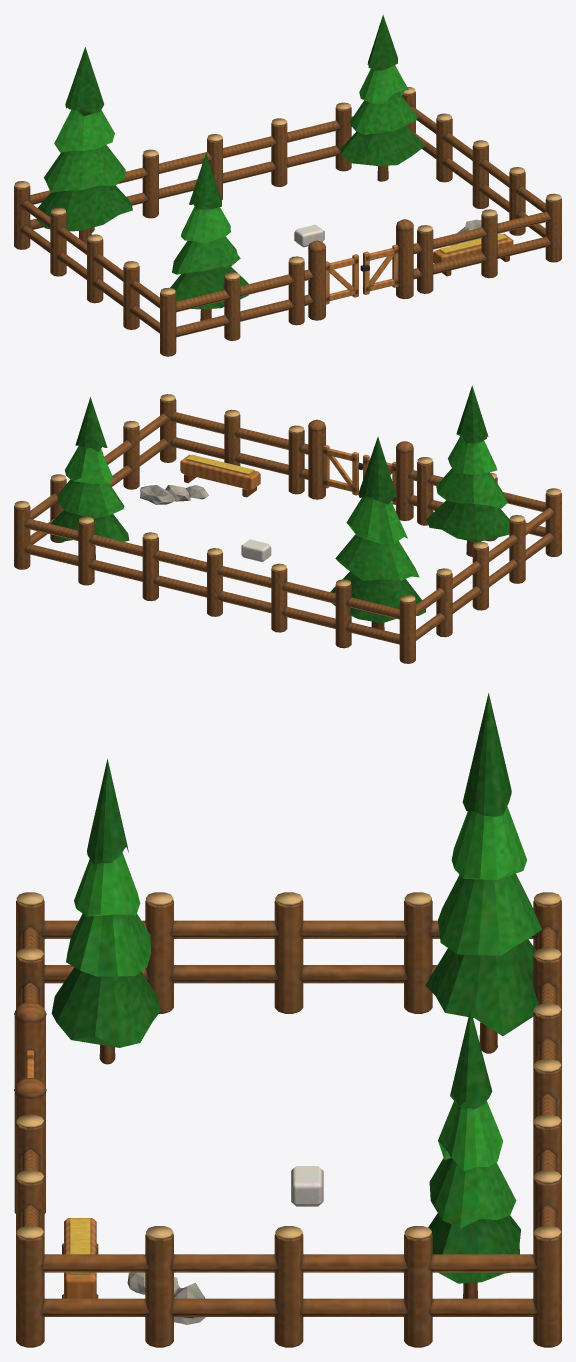
File: moose_woods.glb
The picture shows the model from 3 angles, top to bottom: view 1: azimuth 30°, elevation 25°; view 2: azimuth 150°, elevation 25°; view 3: azimuth 270°, elevation 25°; orthographic projection. The views are drawn at different scales.
Visible parts, largest first — view 1: moose_woods, gate1, gate0; view 2: moose_woods, gate1; view 3: moose_woods.
Part boxes in pixels (box(x1,y1,x2,y2)): moose_woods: box(14, 14, 561, 356); gate1: box(360, 244, 398, 294); gate0: box(326, 254, 358, 304); moose_woods: box(14, 385, 561, 663); gate1: box(323, 445, 362, 495); moose_woods: box(14, 693, 561, 1347).
Bounding box in the file's own units: 3 × 1.44 × 2.01.
1 material, 1 textured.
